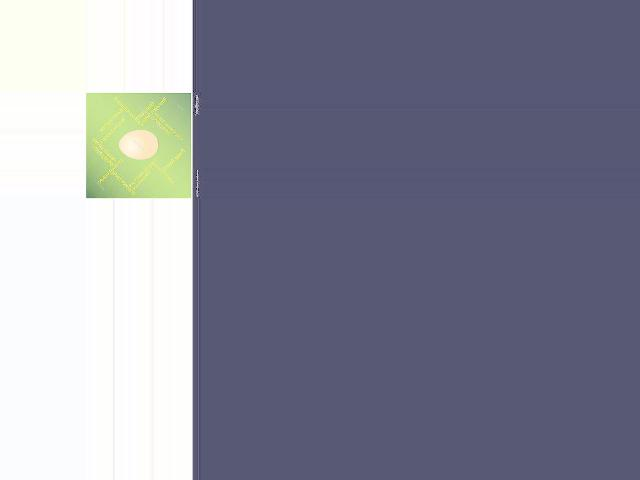egg: (119, 130, 157, 160)
